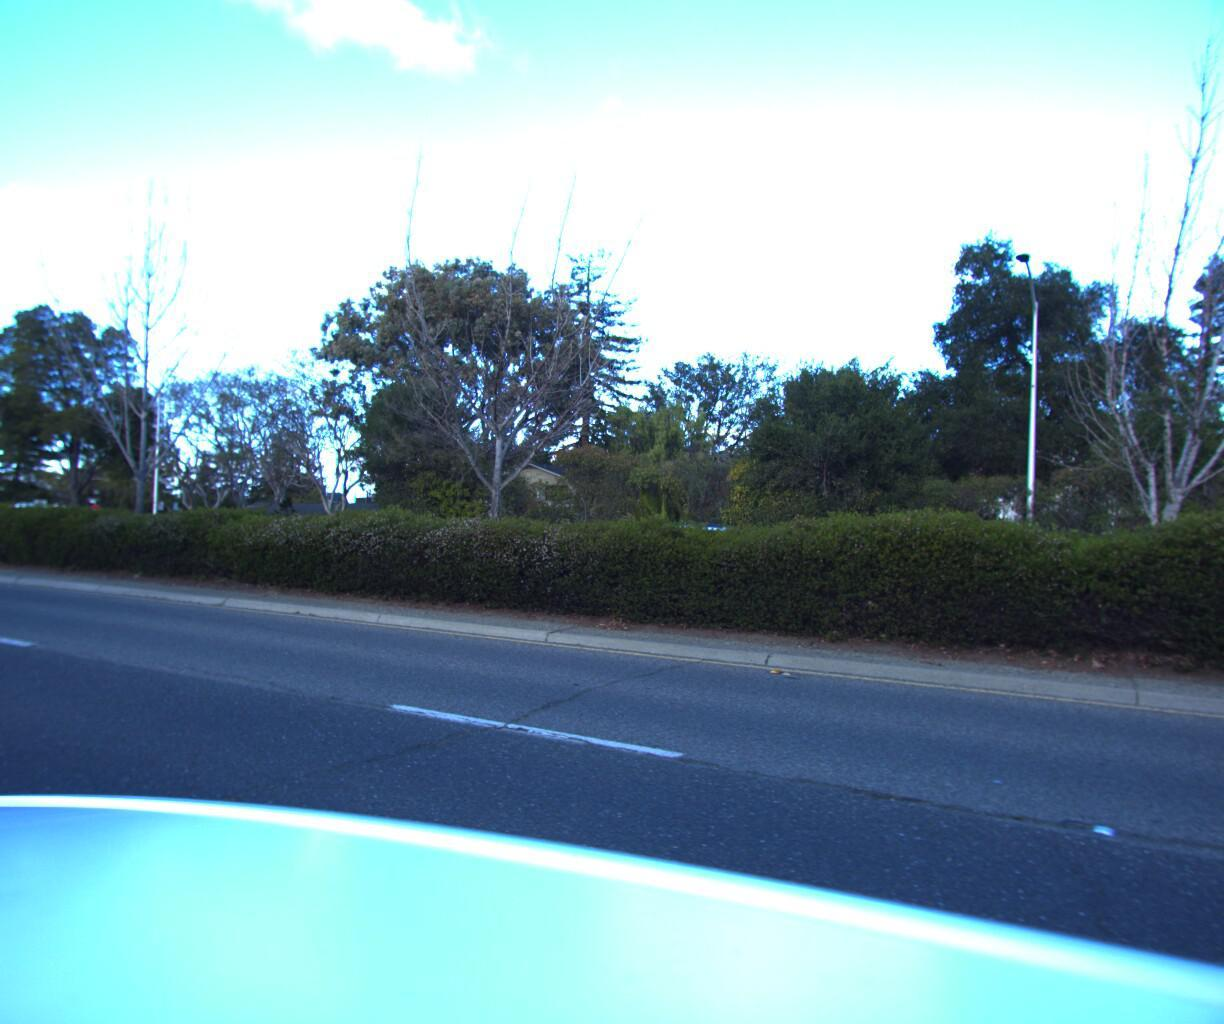car: (593, 516, 752, 580), (0, 497, 87, 547)
